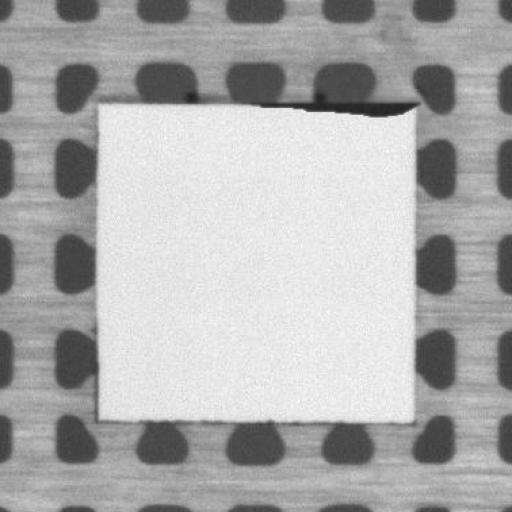DIE_BROKEN: (253, 93, 420, 118)
